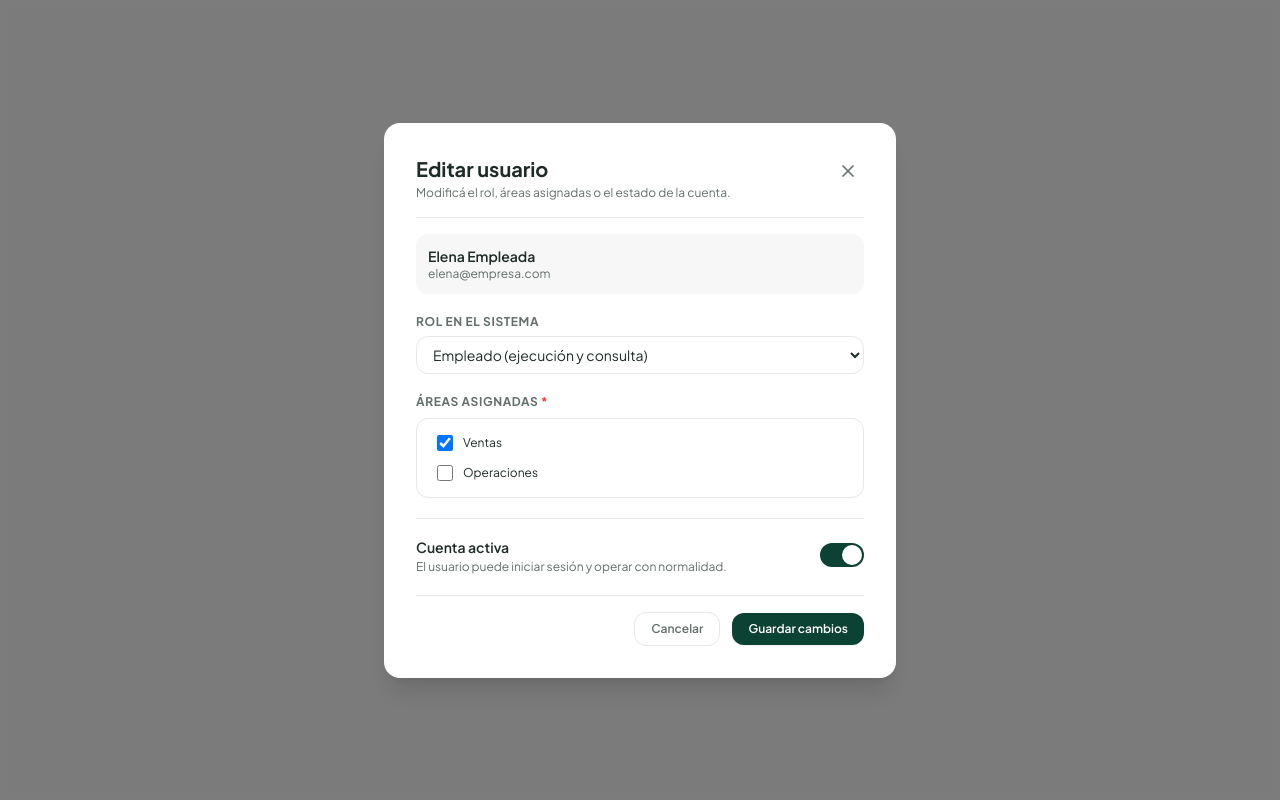
Test: EditUserModal component › muestra mensaje de error si el servicio API rechaza la actualización
Click the button "Guardar cambios".
click(798, 628)  # box [732, 612, 864, 644]
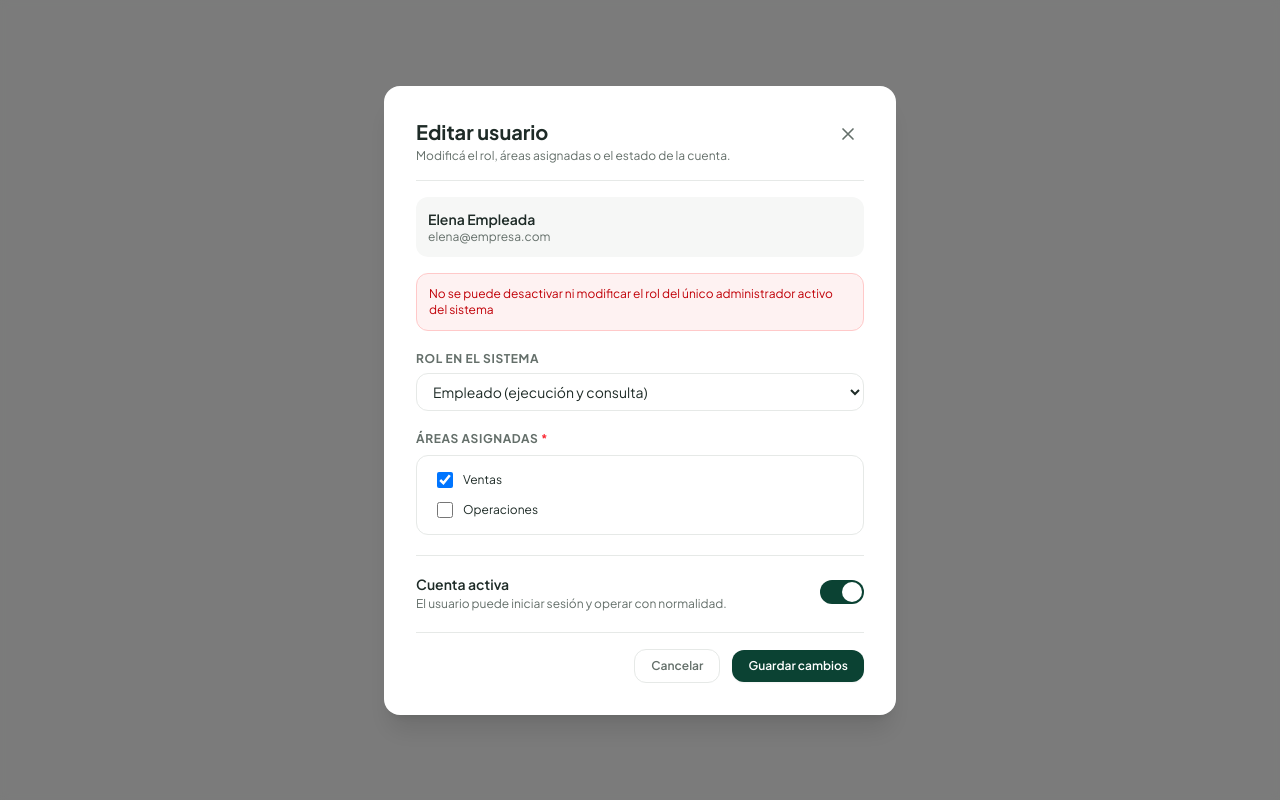
Expected: the message shows "No se puede desactivar ni modificar el rol del único administrador activo del sistema", [429, 286, 833, 316]
